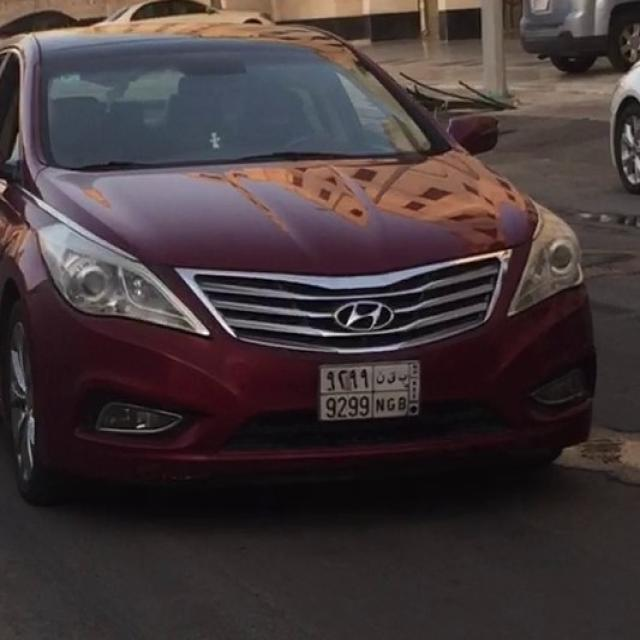Car-plate: (308, 356, 428, 427)
